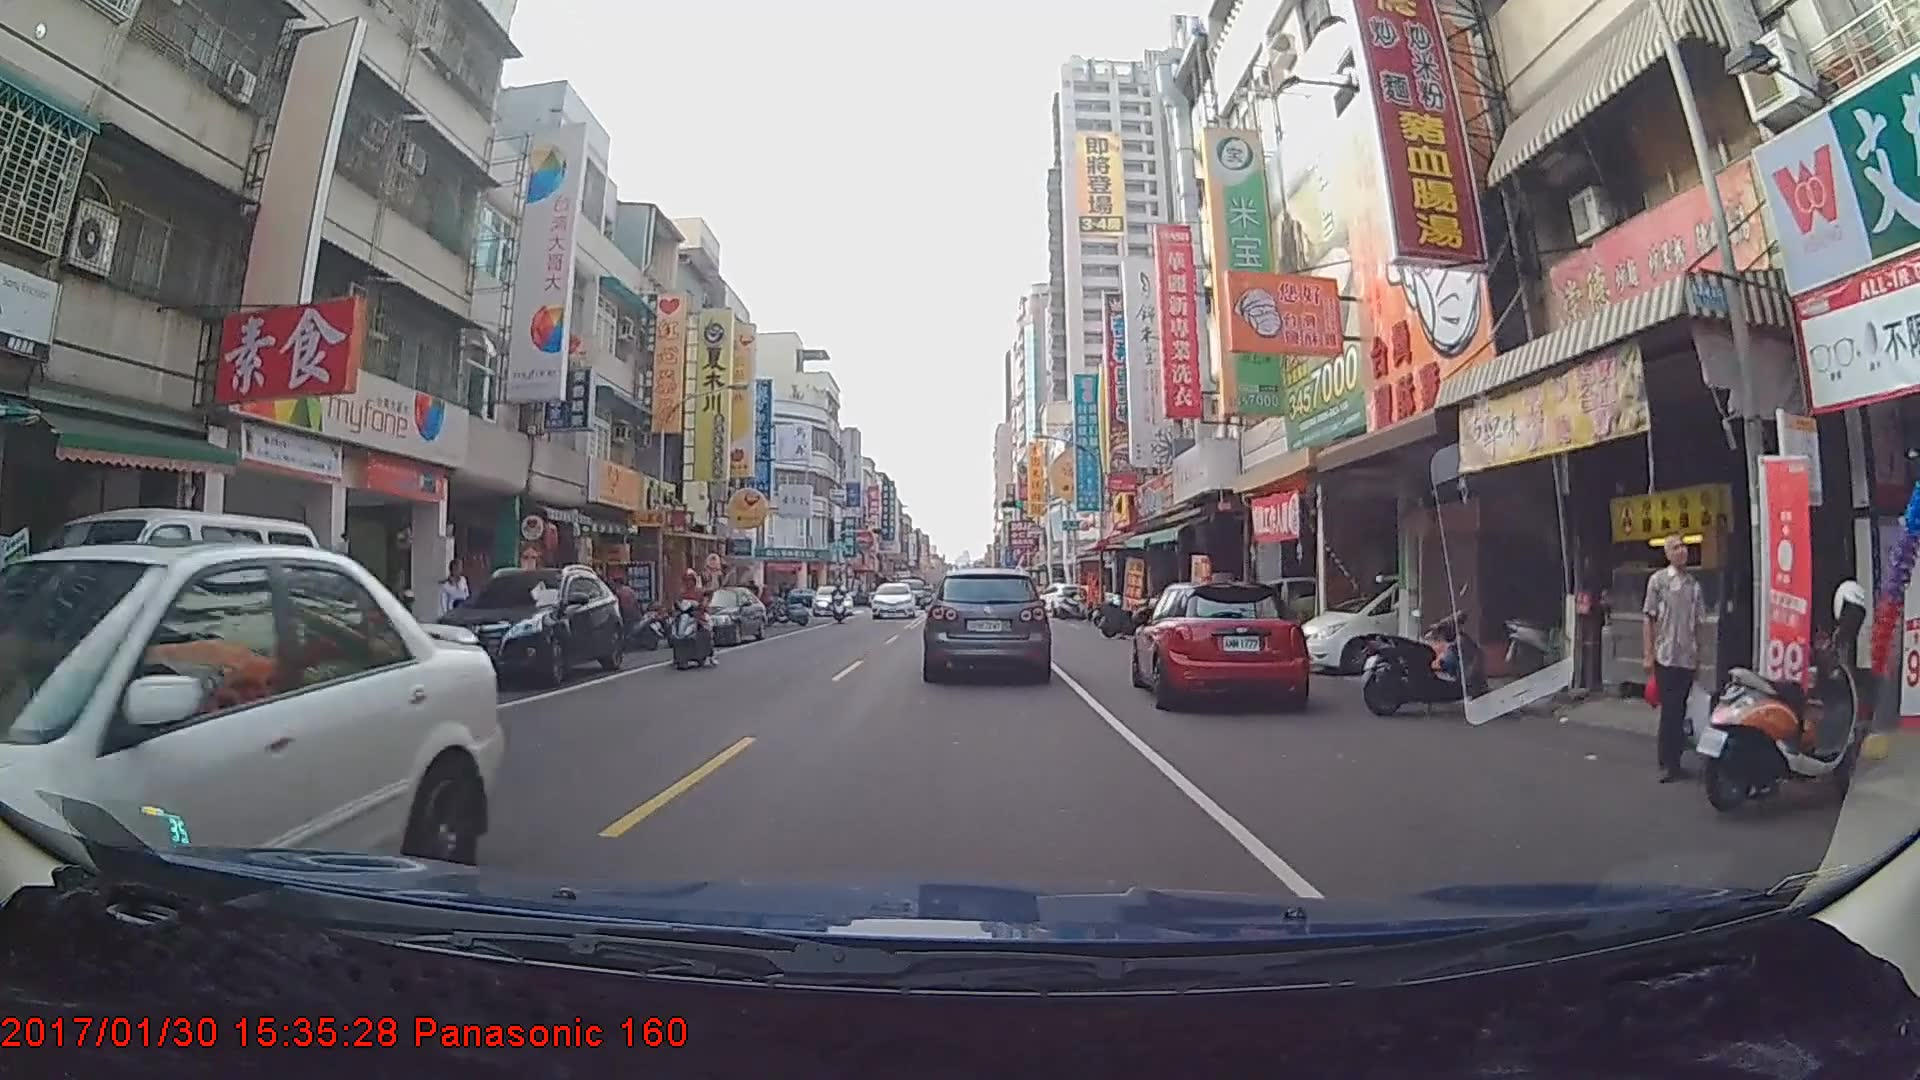pedestrian: (1643, 530, 1710, 789), (433, 559, 471, 668)
rider: (669, 572, 718, 671)
vehicle: (0, 539, 504, 999), (1134, 575, 1309, 710), (435, 564, 624, 687), (924, 566, 1050, 679), (664, 584, 768, 646), (1034, 581, 1087, 617), (867, 580, 915, 619), (810, 585, 851, 617)
